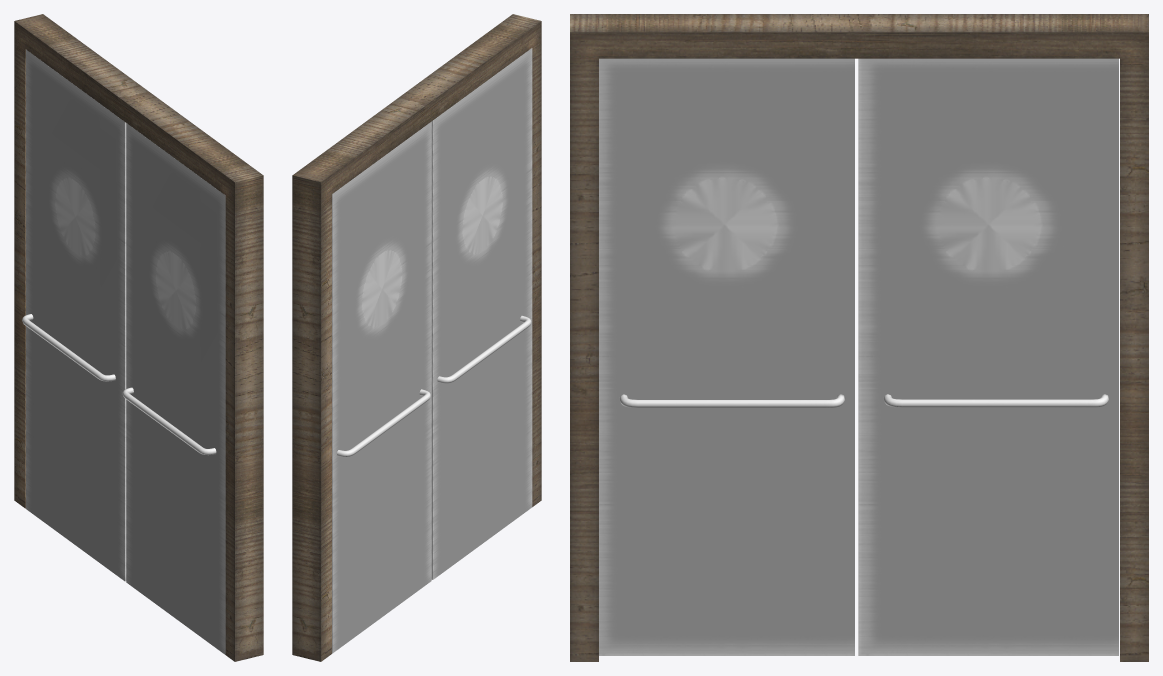
File: Puerta_sala_multiple.FBX
The picture shows the model from 3 angles, left to right: view 1: azimuth 30°, elevation 25°; view 2: azimuth 150°, elevation 25°; view 3: azimuth 270°, elevation 25°; orthographic projection. The views are drawn at different scales.
Parts seen in each view (by area): view 1: door, door001, Puerta_salaMultiple; view 2: door001, door, Puerta_salaMultiple; view 3: door, door001, Puerta_salaMultiple.
Part boxes in pixels (bbox=[...]): door: bbox=[22, 49, 126, 581]; door001: bbox=[122, 123, 225, 654]; Puerta_salaMultiple: bbox=[14, 14, 263, 661]; door001: bbox=[431, 48, 532, 579]; door: bbox=[332, 121, 431, 653]; Puerta_salaMultiple: bbox=[292, 14, 541, 661]; door: bbox=[858, 58, 1118, 655]; door001: bbox=[599, 58, 854, 655]; Puerta_salaMultiple: bbox=[570, 14, 1148, 661].
Size of the model in its own units: 22.8 by 240 by 200.
Materials: 1 (1 with a texture image).
